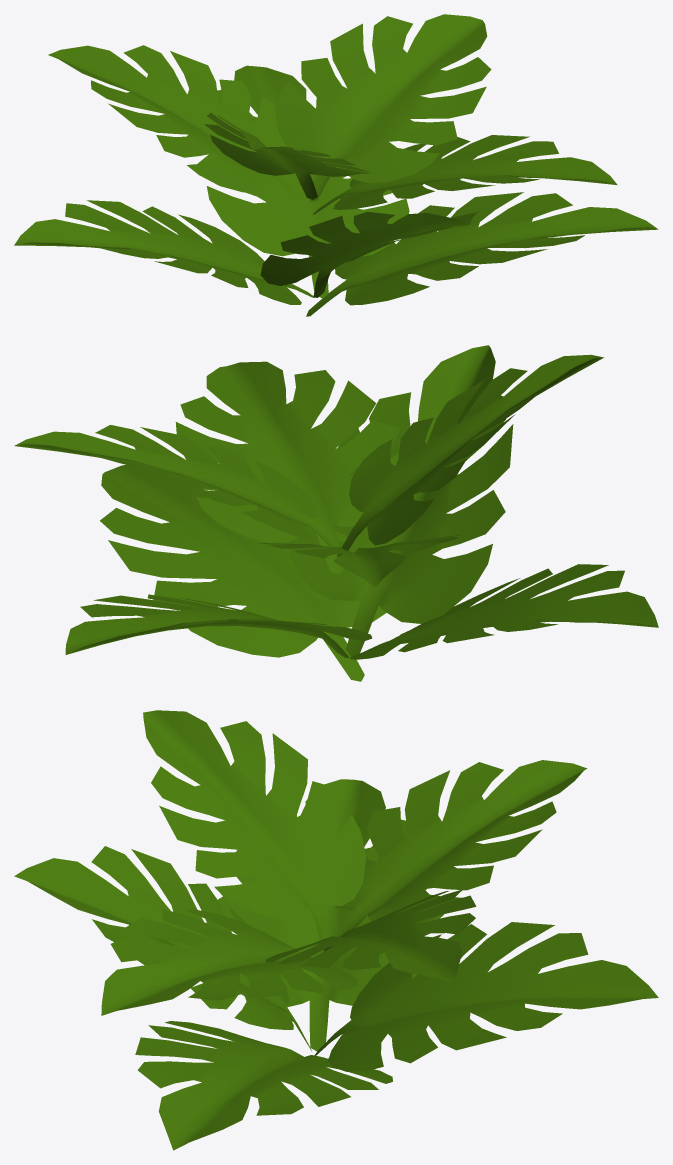
The model's file is planttropical.fbx.
The picture shows the model from 3 angles, top to bottom: view 1: azimuth 30°, elevation 25°; view 2: azimuth 150°, elevation 25°; view 3: azimuth 270°, elevation 25°; orthographic projection. The views are drawn at different scales.
Parts seen in each view (by area): view 1: Plane.004, Plane.007, Plane.002, Plane.001, Plane.013, Plane.006, Plane.003, Plane.005; view 2: Plane.002, Plane.006, Plane.003, Plane.005, Plane.004, Plane.001, Plane.013, Plane.007; view 3: Plane.005, Plane.013, Plane.007, Plane.002, Plane.006, Plane.003, Plane.004, Plane.001.
Boxes of the visible parts, left/top/right/bottom form: Plane.004: left=275, top=14, right=491, bottom=201; Plane.007: left=48, top=45, right=309, bottom=200; Plane.002: left=306, top=192, right=658, bottom=316; Plane.001: left=14, top=200, right=313, bottom=304; Plane.013: left=198, top=65, right=409, bottom=298; Plane.006: left=313, top=135, right=617, bottom=214; Plane.003: left=260, top=211, right=479, bottom=297; Plane.005: left=204, top=113, right=370, bottom=199; Plane.002: left=100, top=463, right=386, bottom=681; Plane.006: left=175, top=361, right=399, bottom=574; Plane.003: left=289, top=345, right=513, bottom=656; Plane.005: left=341, top=354, right=603, bottom=550; Plane.004: left=14, top=425, right=337, bottom=555; Plane.001: left=349, top=564, right=658, bottom=659; Plane.013: left=65, top=594, right=372, bottom=657; Plane.007: left=258, top=534, right=460, bottom=587; Plane.005: left=143, top=710, right=366, bottom=949; Plane.013: left=314, top=922, right=658, bottom=1071; Plane.007: left=334, top=760, right=587, bottom=936; Plane.002: left=135, top=1021, right=392, bottom=1150; Plane.006: left=101, top=909, right=357, bottom=1015; Plane.003: left=14, top=846, right=311, bottom=1051; Plane.004: left=266, top=889, right=476, bottom=983; Plane.001: left=218, top=779, right=443, bottom=1051.
Bounding box in the file's own units: 861 × 381 × 775.
